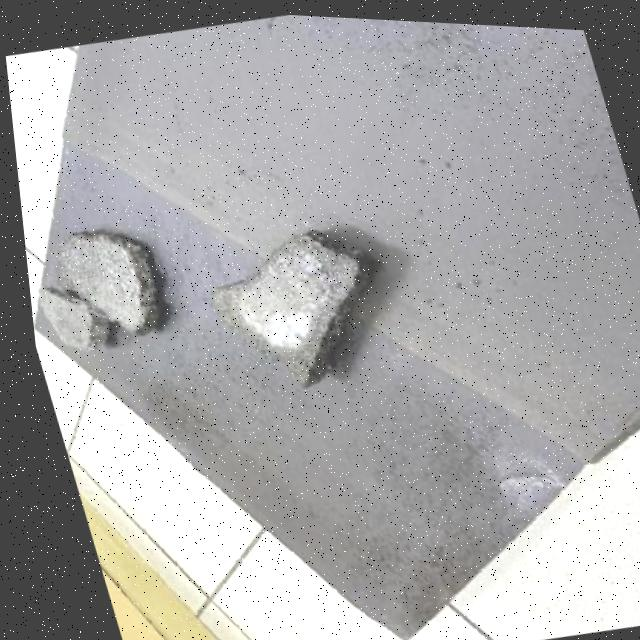Road Debris: (239, 230, 356, 324), (39, 232, 109, 309), (44, 298, 94, 354)
